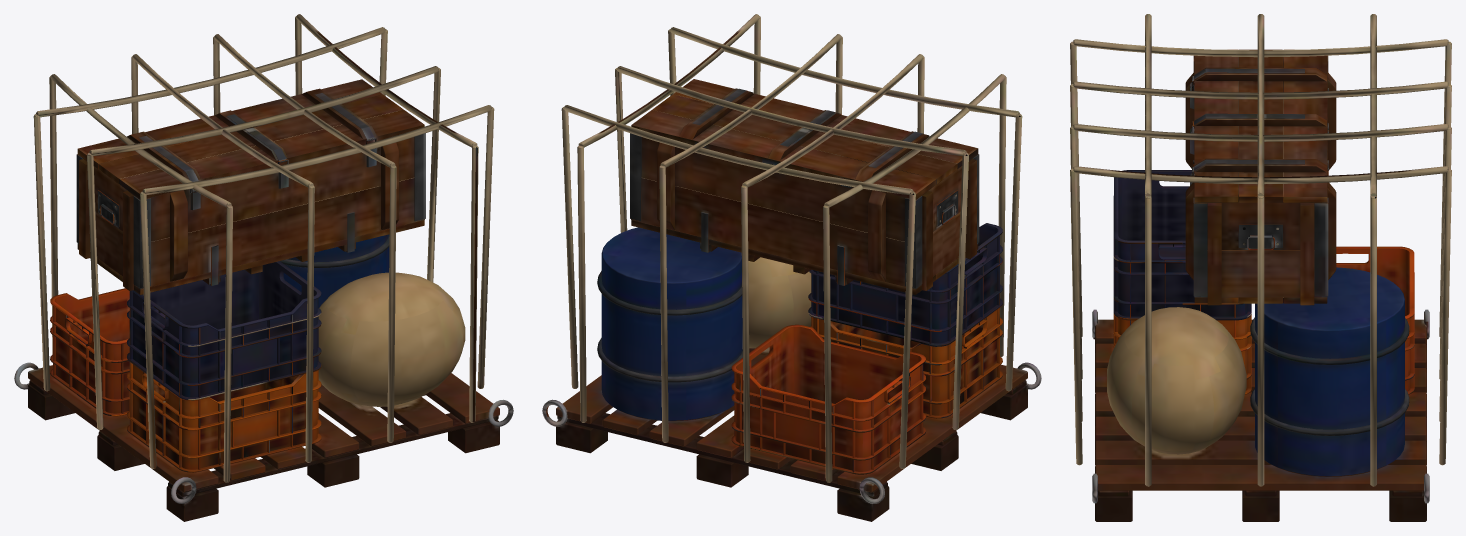
The model's file is cargo_net_pile.glb.
3 renders of one model, left to right at view 1: azimuth 30°, elevation 25°; view 2: azimuth 150°, elevation 25°; view 3: azimuth 270°, elevation 25°, orthographic. The views are drawn at different scales.
Visible parts, largest first — view 1: cargo_net_pile; view 2: cargo_net_pile; view 3: cargo_net_pile.
Boxes of the visible parts, x1,y1,x2,y2 form: cargo_net_pile: (14, 14, 513, 521); cargo_net_pile: (542, 14, 1041, 521); cargo_net_pile: (1070, 14, 1451, 521).
Size of the model in its own units: 1.38 by 1.19 by 1.22.
1 material, 1 textured.
